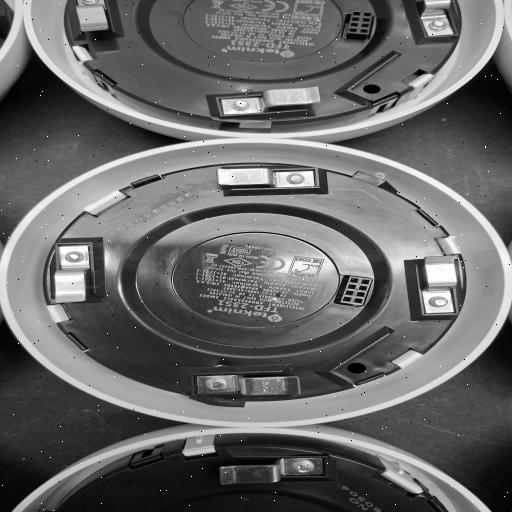konnektor: (309, 272, 382, 316), (340, 7, 381, 44)
yaysiz: (209, 161, 341, 203), (204, 85, 341, 125), (42, 237, 110, 316), (395, 251, 468, 322), (184, 367, 320, 404), (204, 453, 333, 488)
